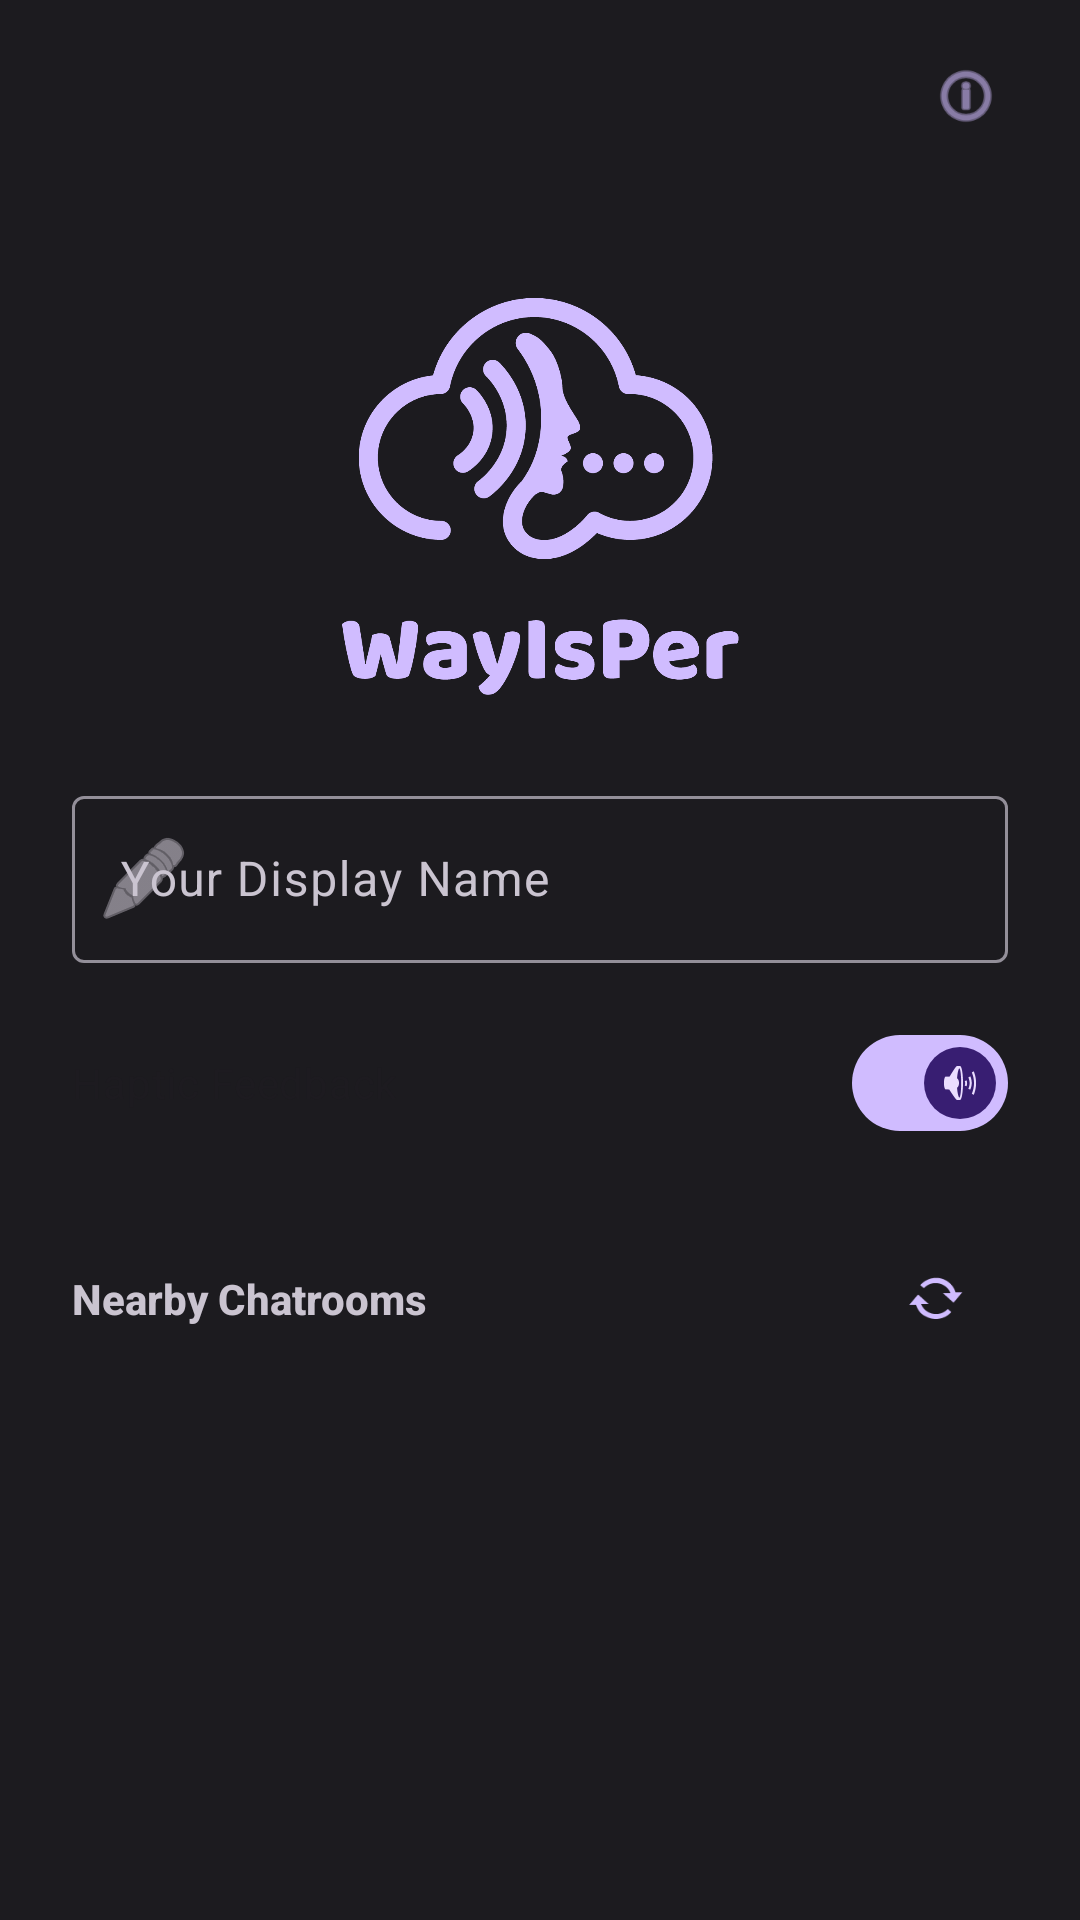

Point at icon controls on the screen. Image size 1080*1920, points as (x,y).
About App: (966,96)
Refresh Search: (935,1298)
